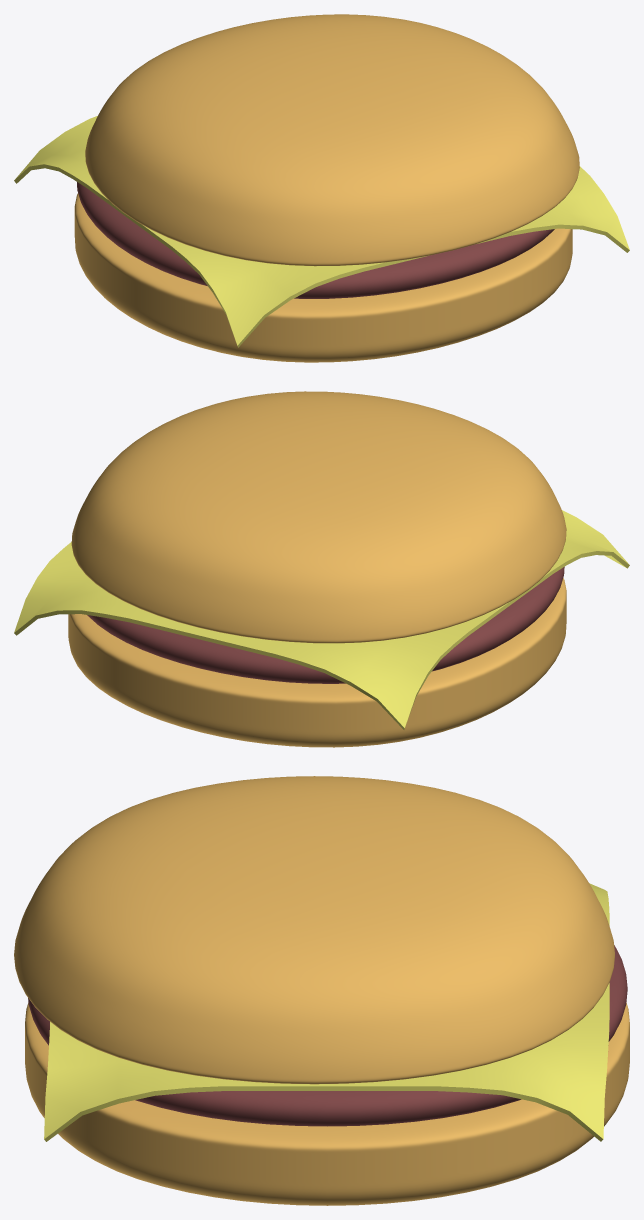
Rendered from hamburger.glb.
3 renders of one model, top to bottom at view 1: azimuth 30°, elevation 25°; view 2: azimuth 150°, elevation 25°; view 3: azimuth 270°, elevation 25°, orthographic. The views are drawn at different scales.
Parts seen in each view (by area): view 1: upper bun, lower bun, cheese, meat; view 2: upper bun, lower bun, cheese, meat; view 3: upper bun, lower bun, cheese, meat.
Part boxes in pixels (x1,y1,x2,y2): upper bun: [85, 14, 579, 266]; lower bun: [74, 193, 572, 362]; cheese: [14, 116, 629, 347]; meat: [77, 182, 554, 298]; upper bun: [71, 391, 566, 643]; lower bun: [68, 578, 566, 747]; cheese: [14, 510, 629, 729]; meat: [87, 567, 564, 683]; upper bun: [14, 776, 614, 1084]; lower bun: [25, 1002, 629, 1205]; cheese: [44, 883, 609, 1141]; meat: [28, 945, 627, 1126].
Bounding box in the file's own units: 9.18 × 4.36 × 9.3.
